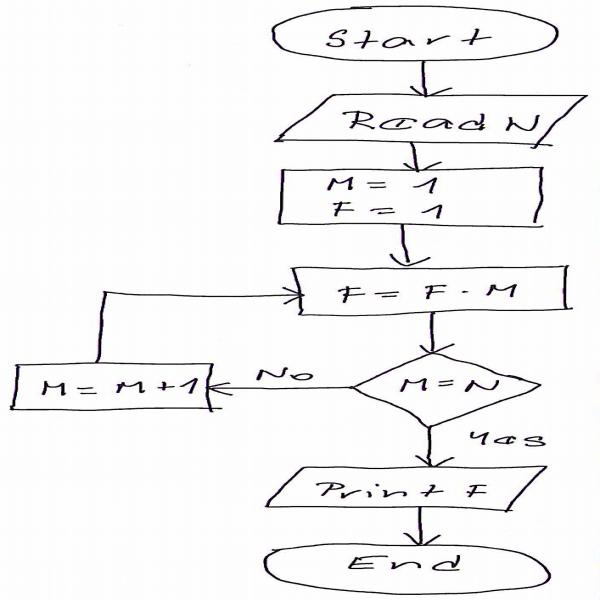arrow: (88, 288, 302, 362), (380, 224, 436, 266), (213, 382, 356, 396), (413, 311, 456, 354), (399, 65, 456, 95), (411, 428, 456, 466), (402, 513, 444, 543), (399, 146, 442, 170)
data: (275, 91, 585, 145), (266, 467, 546, 511)
decision: (348, 352, 540, 427)
process: (275, 167, 546, 229), (289, 266, 574, 316), (12, 360, 211, 411)
terminator: (264, 4, 562, 63), (261, 539, 555, 594)
text: (337, 104, 542, 134), (306, 474, 494, 502), (314, 23, 498, 51), (331, 279, 526, 303), (37, 377, 205, 397), (340, 548, 469, 573), (320, 198, 451, 221), (320, 173, 447, 196), (394, 374, 503, 395), (467, 430, 553, 448), (252, 366, 316, 383)
